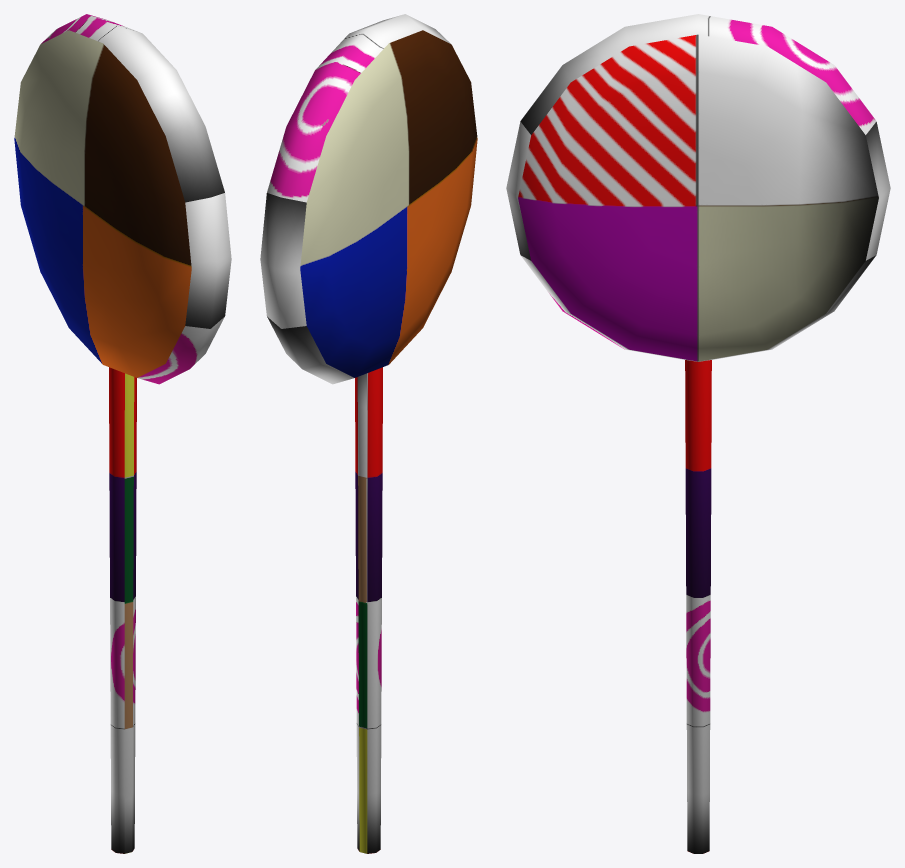
The model's file is SM_FlatLollipop.fbx.
The picture shows the model from 3 angles, left to right: view 1: azimuth 30°, elevation 25°; view 2: azimuth 150°, elevation 25°; view 3: azimuth 270°, elevation 25°; orthographic projection.
Visible parts, largest first — view 1: lecca_lecca_testa_mp, lecca_lecca_steak_mp; view 2: lecca_lecca_testa_mp, lecca_lecca_steak_mp; view 3: lecca_lecca_testa_mp, lecca_lecca_steak_mp.
Part boxes in pixels (x1,y1,x2,y2): lecca_lecca_testa_mp: [14, 14, 231, 384]; lecca_lecca_steak_mp: [109, 367, 136, 853]; lecca_lecca_testa_mp: [260, 14, 477, 384]; lecca_lecca_steak_mp: [355, 367, 382, 853]; lecca_lecca_testa_mp: [506, 14, 890, 361]; lecca_lecca_steak_mp: [685, 360, 711, 853].
Size of the model in its own units: 33.85 by 340 by 141.
